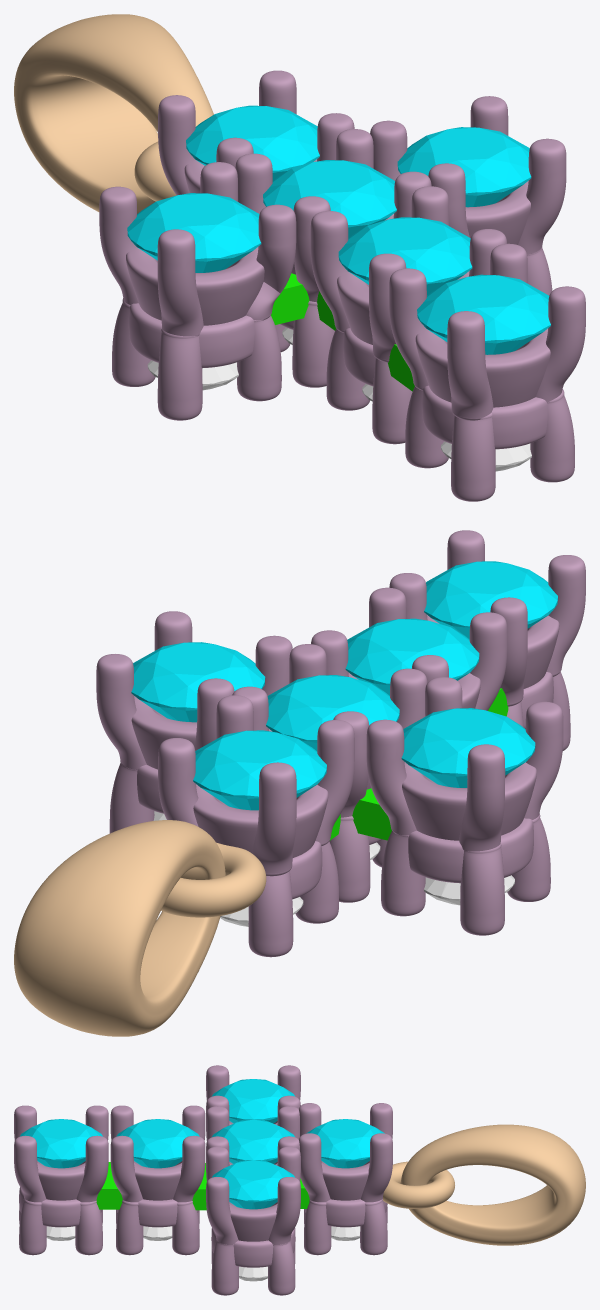
3 renders of one model, top to bottom at view 1: azimuth 30°, elevation 25°; view 2: azimuth 150°, elevation 25°; view 3: azimuth 270°, elevation 25°, orthographic. The views are drawn at different scales.
Parts seen in each view (by area): view 1: croce erasmo 12.5.26.3dm; view 2: croce erasmo 12.5.26.3dm; view 3: croce erasmo 12.5.26.3dm.
Boxes of the visible parts, x1,y1,x2,y2 form: croce erasmo 12.5.26.3dm: (14, 14, 585, 501); croce erasmo 12.5.26.3dm: (14, 530, 585, 1036); croce erasmo 12.5.26.3dm: (14, 1065, 585, 1295).
Size of the model in its own units: 1.76 by 0.8068 by 3.5.
